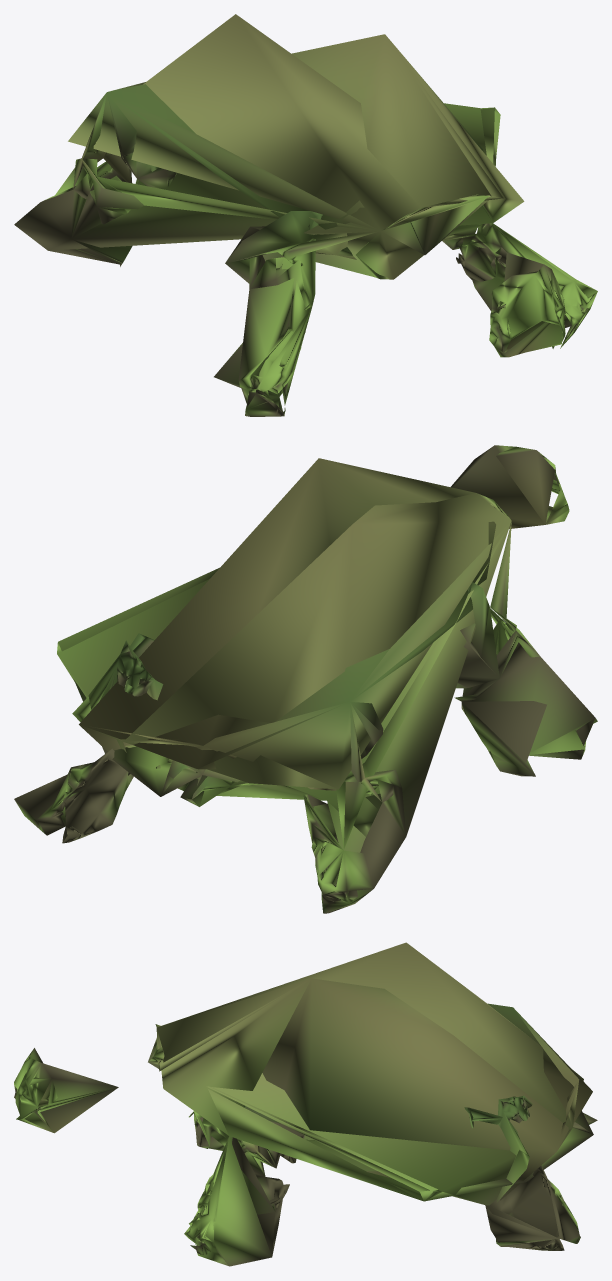
Rendered from gen3d-tortoise-lod0.glb.
The picture shows the model from 3 angles, top to bottom: view 1: azimuth 30°, elevation 25°; view 2: azimuth 150°, elevation 25°; view 3: azimuth 270°, elevation 25°; orthographic projection. The views are drawn at different scales.
Parts seen in each view (by area): view 1: part_0; view 2: part_0; view 3: part_0.
Part boxes in pixels (x1,y1,x2,y2): part_0: (14,14,597,416); part_0: (14,445,597,913); part_0: (14,942,597,1266).
Bounding box in the file's own units: 1.42 × 0.9999 × 2.23.
